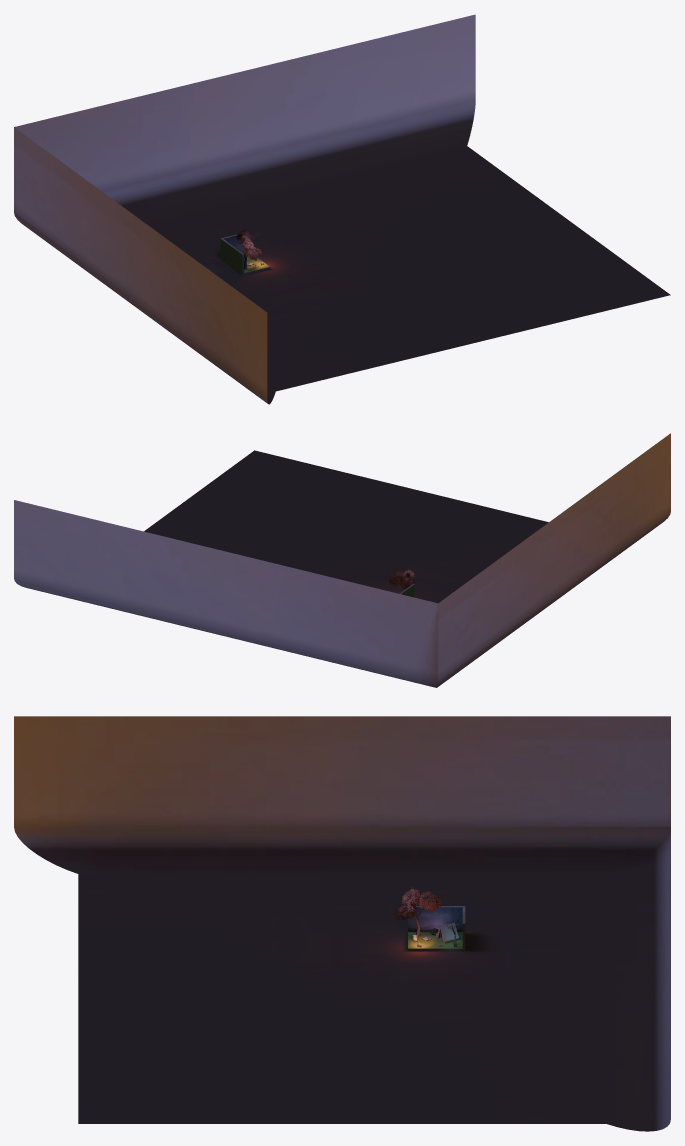
The model's file is m-toilet.glb.
The picture shows the model from 3 angles, top to bottom: view 1: azimuth 30°, elevation 25°; view 2: azimuth 150°, elevation 25°; view 3: azimuth 270°, elevation 25°; orthographic projection. The views are drawn at different scales.
Parts seen in each view (by area): view 1: MT-Set3; view 2: MT-Set3; view 3: MT-Set3, Maple Tree.
Boxes of the visible parts, left/top/right/bottom form: MT-Set3: left=14, top=14, right=670, bottom=404; MT-Set3: left=14, top=433, right=670, bottom=687; MT-Set3: left=14, top=716, right=670, bottom=1131; Maple Tree: left=393, top=887, right=442, bottom=935.
Size of the model in its own units: 97.21 by 21.18 by 92.35.
Materials: 5 (5 with a texture image).
